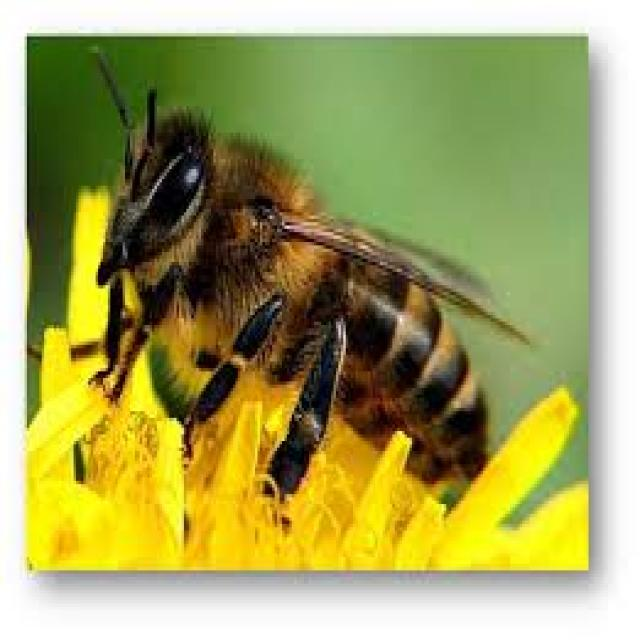Bees: (85, 48, 531, 496)
